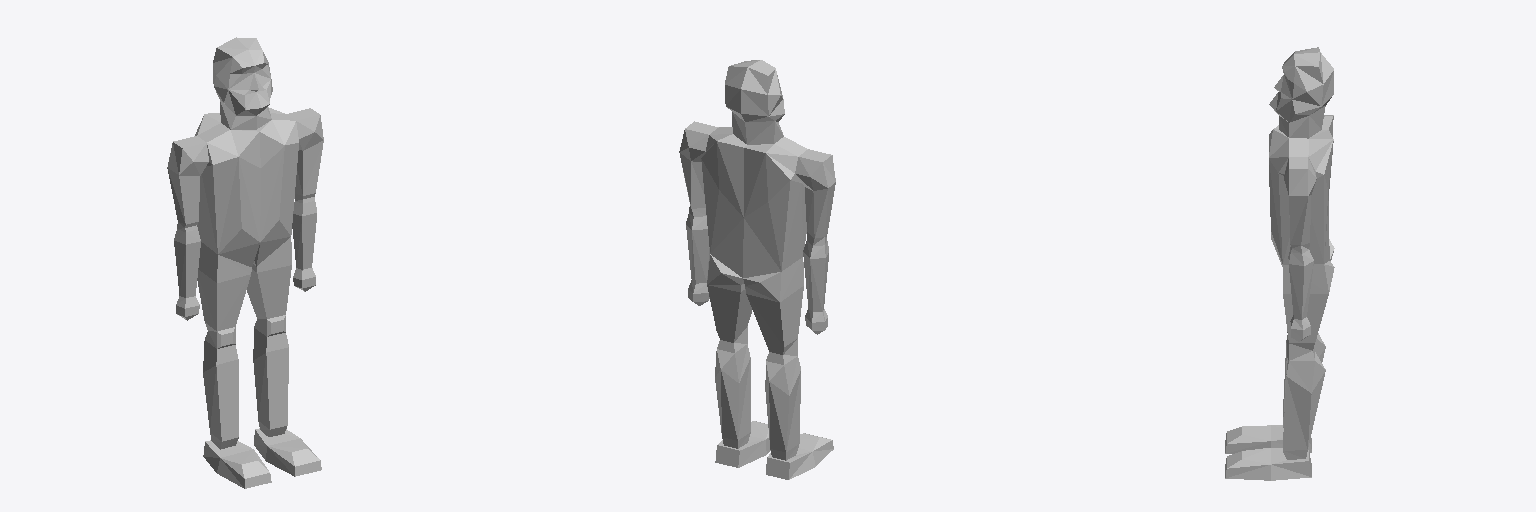
File: Nikky.obj
The picture shows the model from 3 angles: view 1: azimuth 30°, elevation 25°; view 2: azimuth 150°, elevation 25°; view 3: azimuth 270°, elevation 25°; orthographic projection.
Visible parts, largest first — view 1: Plane_Plane.001; view 2: Plane_Plane.001; view 3: Plane_Plane.001.
Boxes of the visible parts, x1,y1,x2,y2 form: Plane_Plane.001: [167, 37, 323, 488]; Plane_Plane.001: [679, 60, 835, 479]; Plane_Plane.001: [1225, 47, 1334, 480].
Bounding box in the file's own units: 0.6028 × 1.57 × 0.3828.